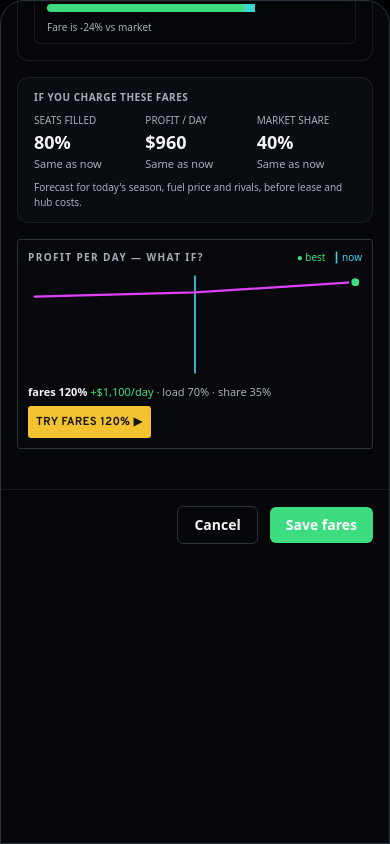
Test case: FareEditor › shows the fare what-if and scales the saved fares to its best point (S64)
The image size is (390, 844).
(page scrolled)
expect the element with test id "fare-curve" is shown: met, box [17,239,373,449]
expect the element with test id "what-if-readout" shows "fares 120%": met, box [28,384,87,399]
Click the button with test id "what-if-best" at {"x": 89, "y": 422}, box [28,406,151,438]
(page scrolled)
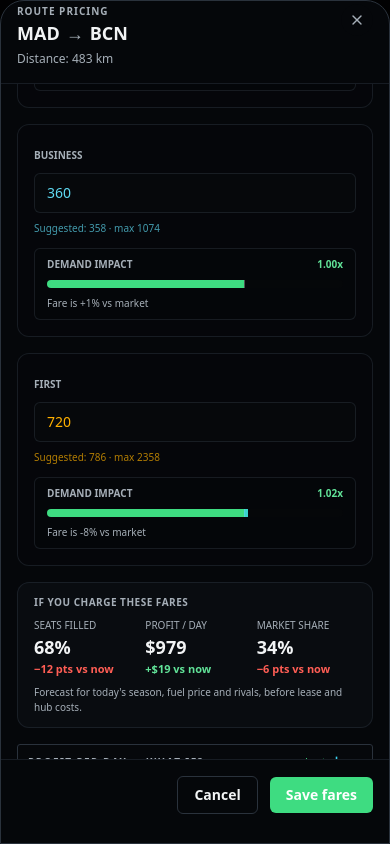
expect the number field labelled "Business" holds "360": met, box [34,172,356,212]
expect the number field labelled "First" holds "720": met, box [34,402,356,442]
